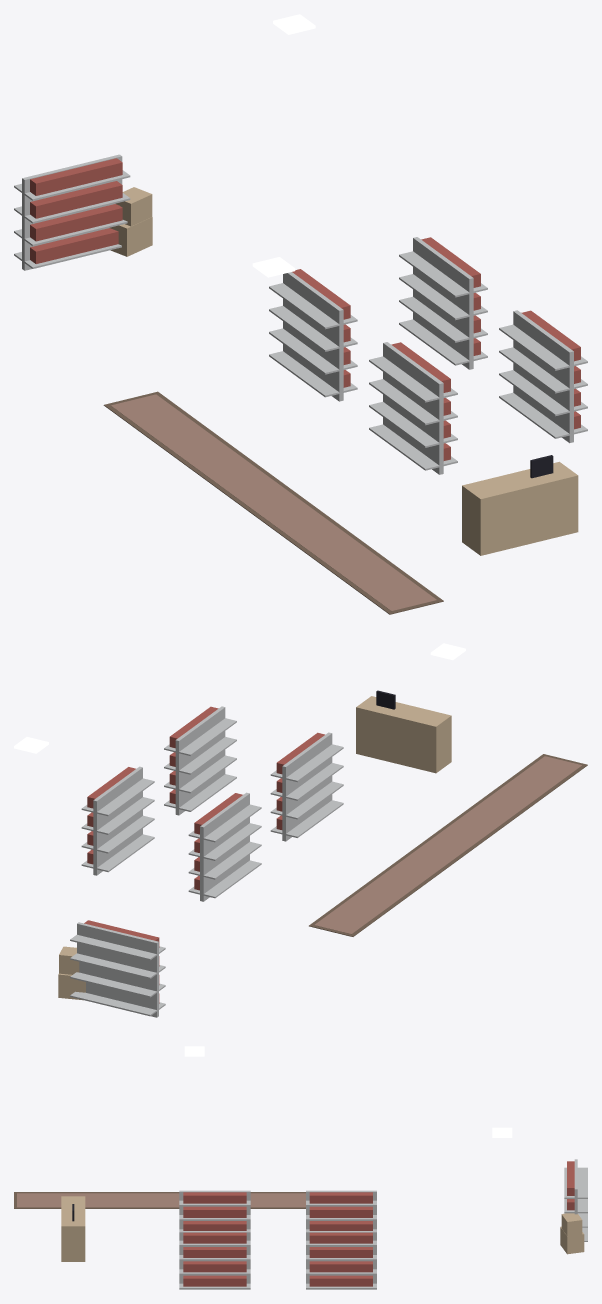
Rendered from fine-s0.glb.
3 renders of one model, top to bottom at view 1: azimuth 30°, elevation 25°; view 2: azimuth 150°, elevation 25°; view 3: azimuth 270°, elevation 25°, orthographic. The views are drawn at different scales.
Parts seen in each view (by area): view 1: soft-s0, shelving.000, shop-counter.000, shelf.002, shelf.001, shelf.003, shelf.000, cardboard-box.000; view 2: soft-s0, shelving.000, shop-counter.000, shelf.001, shelf.003, shelf.002, shelf.000, cardboard-box.000; view 3: shelf.003, shelf.002, soft-s0, shelf.001, shelf.000, shop-counter.000, shelving.000, cardboard-box.000.
Boxes of the visible parts, left/top/right/bottom form: soft-s0: left=103, top=391, right=443, bottom=614; shelving.000: left=14, top=154, right=130, bottom=270; shop-counter.000: left=462, top=455, right=578, bottom=555; shelf.002: left=399, top=237, right=487, bottom=369; shelf.001: left=369, top=342, right=457, bottom=474; shelf.003: left=499, top=310, right=587, bottom=443; shelf.000: left=269, top=269, right=357, bottom=401; cardboard-box.000: left=110, top=187, right=152, bottom=256; soft-s0: left=309, top=754, right=587, bottom=936; shelving.000: left=70, top=920, right=165, bottom=1017; shop-counter.000: left=356, top=690, right=451, bottom=773; shelf.001: left=270, top=732, right=343, bottom=841; shelf.003: left=164, top=706, right=236, bottom=815; shelf.002: left=81, top=766, right=154, bottom=875; shelf.000: left=188, top=792, right=261, bottom=901; cardboard-box.000: left=58, top=946, right=85, bottom=1000; shelf.003: left=179, top=1231, right=250, bottom=1289; shelf.002: left=306, top=1231, right=376, bottom=1289; soft-s0: left=14, top=1192, right=305, bottom=1208; shelf.001: left=179, top=1190, right=250, bottom=1230; shelf.000: left=306, top=1190, right=376, bottom=1230; shop-counter.000: left=61, top=1196, right=85, bottom=1261; shelving.000: left=564, top=1159, right=587, bottom=1241; cardboard-box.000: left=560, top=1213, right=584, bottom=1254.
Bounding box in the file's own units: 6.07 × 4.19 × 14.52.
